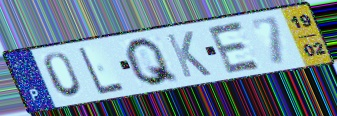0: (41, 50, 83, 100)
7: (248, 14, 287, 68)
E: (205, 19, 264, 76)
K: (163, 29, 215, 80)
L: (76, 45, 128, 96)
Q: (123, 35, 183, 88)
